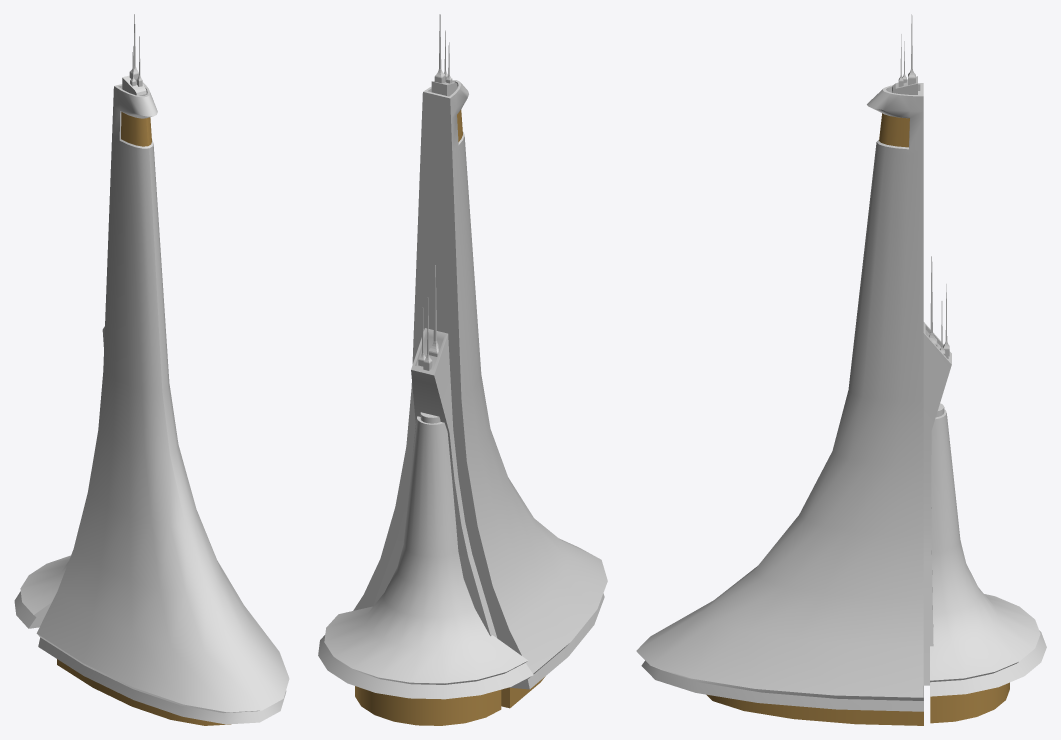
File: skyscraper_1.fbx
3 views of the same model, side by side, from view 1: azimuth 30°, elevation 25°; view 2: azimuth 150°, elevation 25°; view 3: azimuth 270°, elevation 25° (orthographic). The views are drawn at different scales.
Parts seen in each view (by area): view 1: Coruscant; view 2: Coruscant; view 3: Coruscant.
Part boxes in pixels (box(x1,y1,x2,y2)): Coruscant: box(14, 14, 289, 725); Coruscant: box(318, 14, 607, 725); Coruscant: box(636, 14, 1046, 725).
Size of the model in its own units: 3349 by 11093 by 5884.
